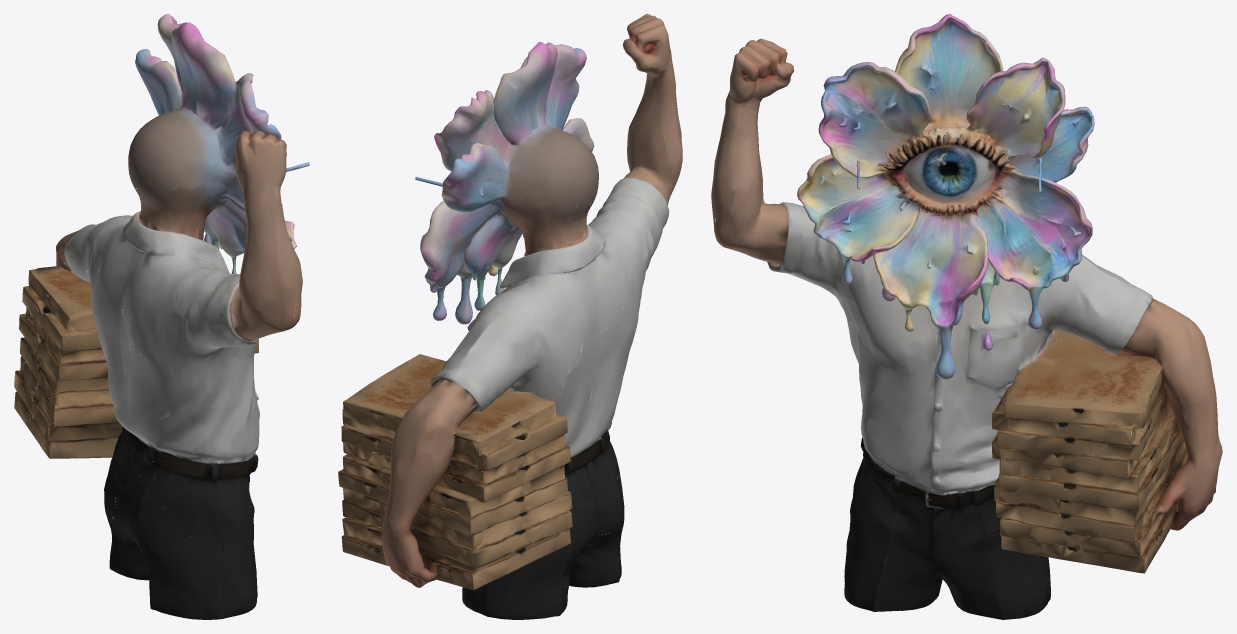
File: sonny.glb
3 views of the same model, side by side, from view 1: azimuth 30°, elevation 25°; view 2: azimuth 150°, elevation 25°; view 3: azimuth 270°, elevation 25° (orthographic). The views are drawn at different scales.
Parts seen in each view (by area): view 1: tripo_node_a85e1cb0-b648-47d7-8395-0418e162e5b7; view 2: tripo_node_a85e1cb0-b648-47d7-8395-0418e162e5b7; view 3: tripo_node_a85e1cb0-b648-47d7-8395-0418e162e5b7.
Boxes of the visible parts, bbox=[...] form: tripo_node_a85e1cb0-b648-47d7-8395-0418e162e5b7: bbox=[14, 14, 309, 619]; tripo_node_a85e1cb0-b648-47d7-8395-0418e162e5b7: bbox=[338, 14, 682, 619]; tripo_node_a85e1cb0-b648-47d7-8395-0418e162e5b7: bbox=[711, 14, 1222, 619].
Bounding box in the file's own units: 0.3853 × 1 × 0.7968.
Materials: 1 (1 with a texture image).
